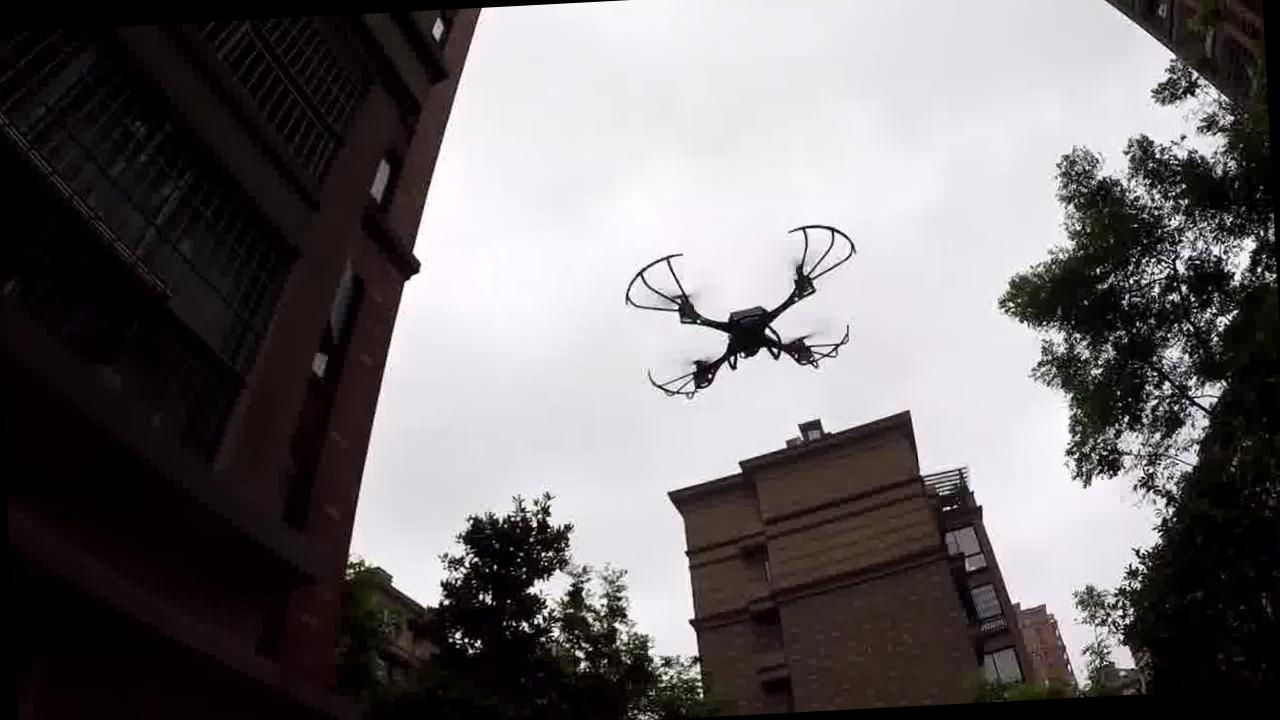drone: (614, 208, 864, 420)
